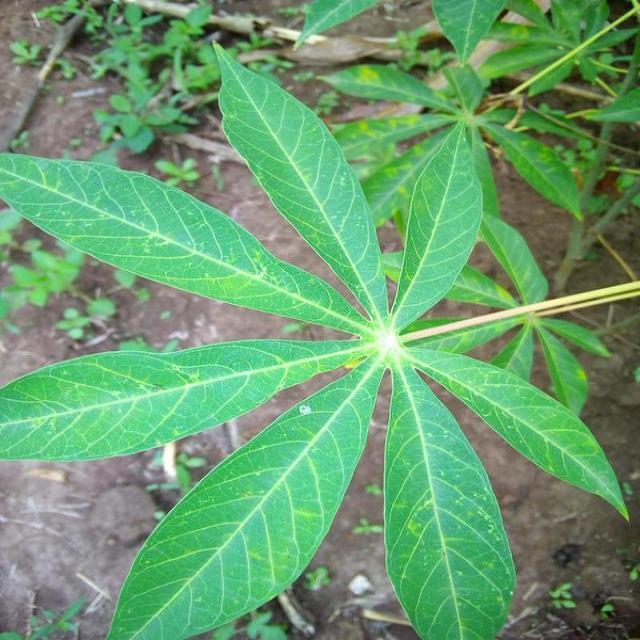cassava leaf: (0, 38, 630, 637), (104, 350, 385, 638), (210, 39, 390, 328), (382, 358, 516, 638)
